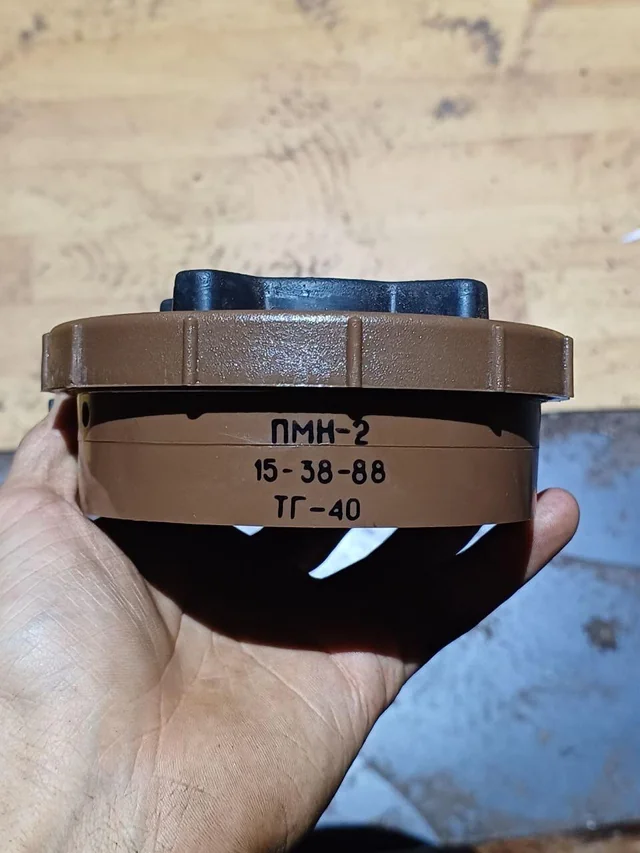PMN 2: (37, 258, 576, 540)
